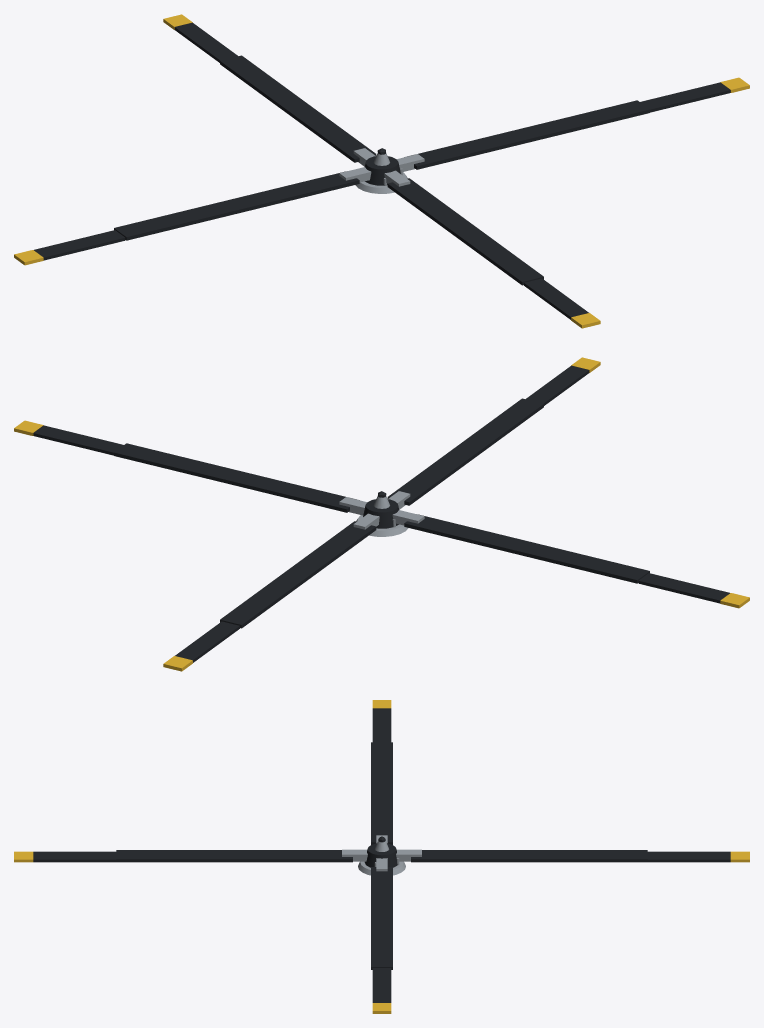
Rendered from heli_rotor.fbx.
The picture shows the model from 3 angles, top to bottom: view 1: azimuth 30°, elevation 25°; view 2: azimuth 150°, elevation 25°; view 3: azimuth 270°, elevation 25°; orthographic projection. The views are drawn at different scales.
Parts seen in each view (by area): view 1: heli_rotor.001; view 2: heli_rotor.001; view 3: heli_rotor.001.
Part boxes in pixels (x1,y1,x2,y2): heli_rotor.001: [14, 14, 749, 328]; heli_rotor.001: [14, 357, 749, 671]; heli_rotor.001: [14, 700, 749, 1013].
Size of the model in its own units: 15.24 by 0.695 by 15.24.
